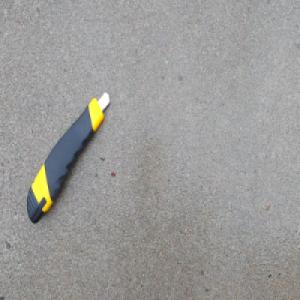Cutter: (27, 90, 111, 225)
